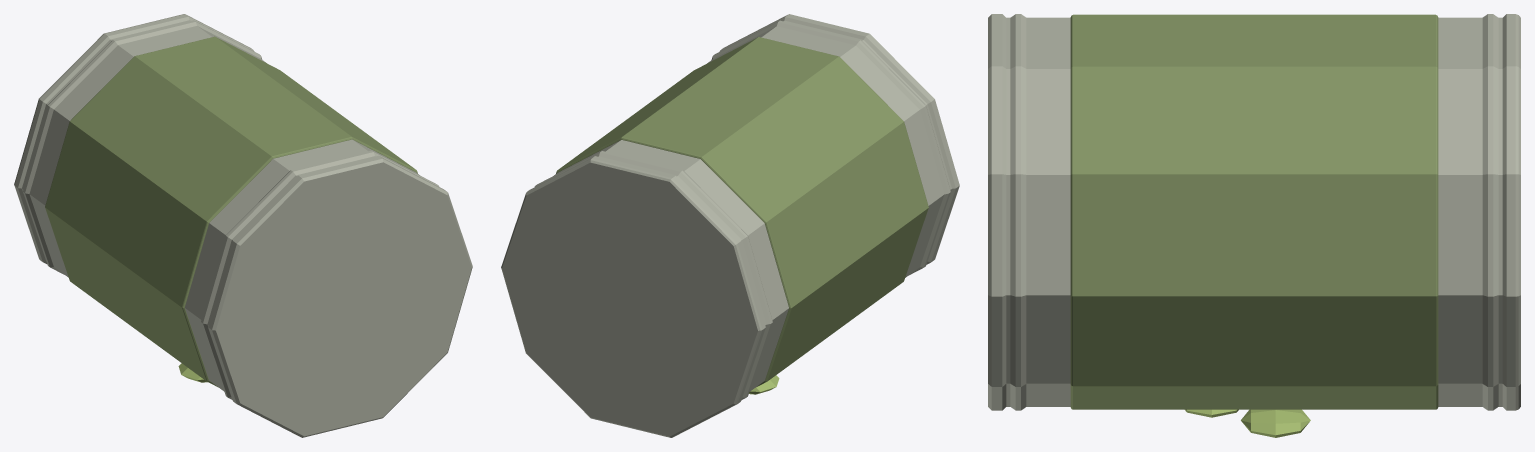
File: canned_peas.glb
3 views of the same model, side by side, from view 1: azimuth 30°, elevation 25°; view 2: azimuth 150°, elevation 25°; view 3: azimuth 270°, elevation 25° (orthographic). The views are drawn at different scales.
Visible parts, largest first — view 1: canned_peas; view 2: canned_peas; view 3: canned_peas.
Boxes of the visible parts, x1,y1,x2,y2 form: canned_peas: (14, 14, 472, 437); canned_peas: (501, 14, 959, 437); canned_peas: (988, 14, 1520, 437).
Size of the model in its own units: 0.075 by 0.0767 by 0.1.
